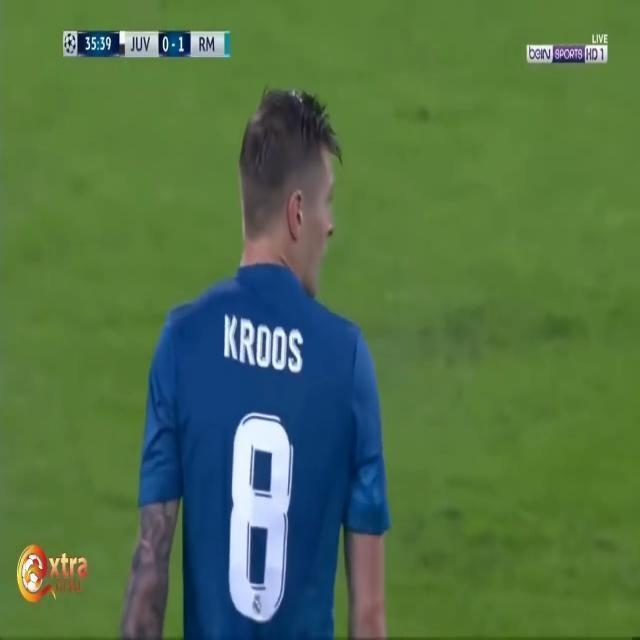player: (135, 52, 404, 616)
